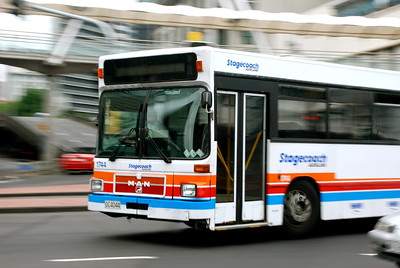bus: (86, 43, 400, 236)
